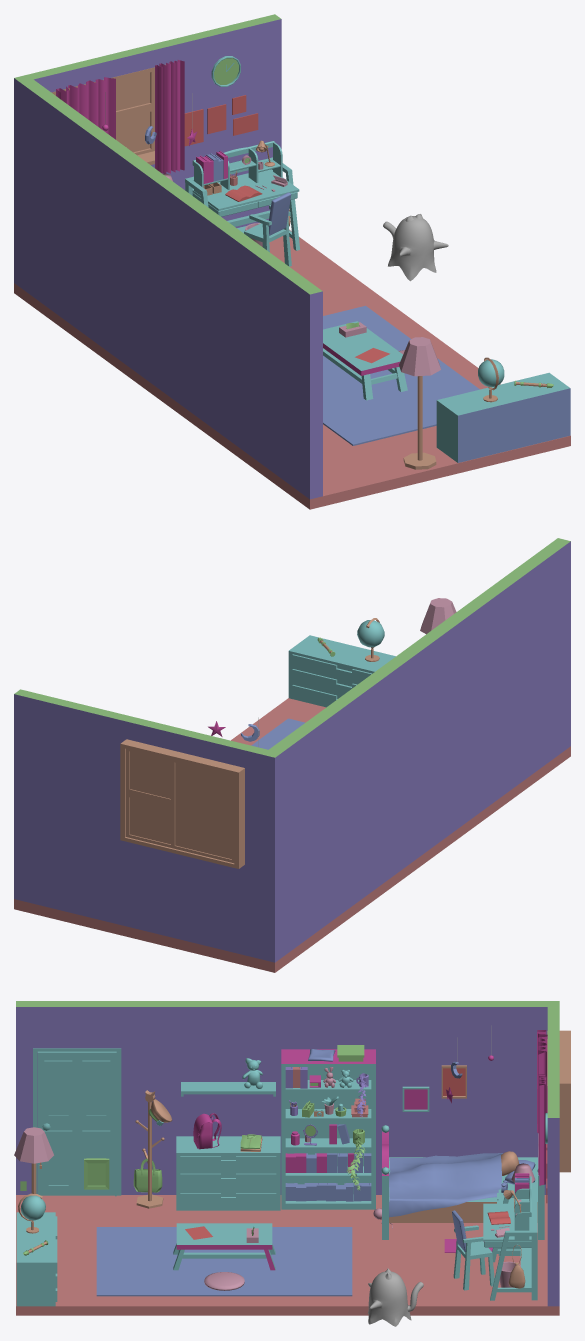
The model's file is MDL_Room_FIN.fbx.
The picture shows the model from 3 angles, top to bottom: view 1: azimuth 30°, elevation 25°; view 2: azimuth 150°, elevation 25°; view 3: azimuth 270°, elevation 25°; orthographic projection. The views are drawn at different scales.
Parts seen in each view (by area): view 1: MDL_Room_geo, MDL_carpet_geo, MDL_chestB_geo, MDL_katenR_geo, MDL_lowtable_geo, MDL_windows10_geo2, MDL_obaketest_geo, MDL_kinokolight_geo, MDL_katenL_geo, MDL_chiar_geo, MDL_Desk_desk_geo, MDL_Desk_saku_geo (+4 smaller); view 2: MDL_Room_geo, MDL_windows10_geo2, MDL_chestB_geo, MDL_madokabe_geo, MDL_kinokolight_geo, MDL_Tikyugi_geo, MDL_carpet_geo; view 3: MDL_Room_geo, MDL_carpet_geo, MDL_door_geo, MDL_tansu_geo, MDL_chestA_geo, MDL_mouhu_geo, MDL_chestB_geo, MDL_lowtable_geo, MDL_Bed_geo, MDL_obaketest_geo, MDL_Desk_hone_geo, MDL_madokabe_geo (+19 smaller).
Part boxes in pixels (left/top/right/bottom): MDL_Room_geo: left=14, top=14, right=570, bottom=509; MDL_carpet_geo: left=323, top=305, right=479, bottom=445; MDL_chestB_geo: left=436, top=372, right=570, bottom=462; MDL_katenR_geo: left=155, top=60, right=184, bottom=173; MDL_lowtable_geo: left=323, top=321, right=407, bottom=400; MDL_windows10_geo2: left=55, top=71, right=154, bottom=155; MDL_obaketest_geo: left=383, top=214, right=448, bottom=281; MDL_kinokolight_geo: left=399, top=337, right=441, bottom=469; MDL_katenL_geo: left=56, top=77, right=115, bottom=139; MDL_chiar_geo: left=244, top=192, right=291, bottom=266; MDL_Desk_desk_geo: left=192, top=169, right=299, bottom=210; MDL_Desk_saku_geo: left=192, top=141, right=282, bottom=195; MDL_Room_geo: left=14, top=538, right=570, bottom=972; MDL_windows10_geo2: left=126, top=748, right=234, bottom=863; MDL_chestB_geo: left=288, top=635, right=395, bottom=707; MDL_madokabe_geo: left=120, top=739, right=244, bottom=868; MDL_kinokolight_geo: left=420, top=598, right=456, bottom=634; MDL_Tikyugi_geo: left=357, top=618, right=384, bottom=661; MDL_carpet_geo: left=251, top=718, right=304, bottom=749; MDL_Room_geo: left=16, top=1001, right=559, bottom=1315; MDL_carpet_geo: left=96, top=1227, right=352, bottom=1296; MDL_door_geo: left=33, top=1048, right=121, bottom=1196; MDL_tansu_geo: left=281, top=1049, right=375, bottom=1209; MDL_chestA_geo: left=176, top=1136, right=280, bottom=1210; MDL_mouhu_geo: left=389, top=1153, right=502, bottom=1217; MDL_chestB_geo: left=16, top=1212, right=57, bottom=1306; MDL_lowtable_geo: left=173, top=1223, right=275, bottom=1270; MDL_Bed_geo: left=381, top=1125, right=544, bottom=1239; MDL_obaketest_geo: left=367, top=1268, right=423, bottom=1326; MDL_Desk_hone_geo: left=490, top=1192, right=537, bottom=1300; MDL_madokabe_geo: left=559, top=1030, right=570, bottom=1172.
Bounding box in the file's own units: 406 × 252 × 644.
